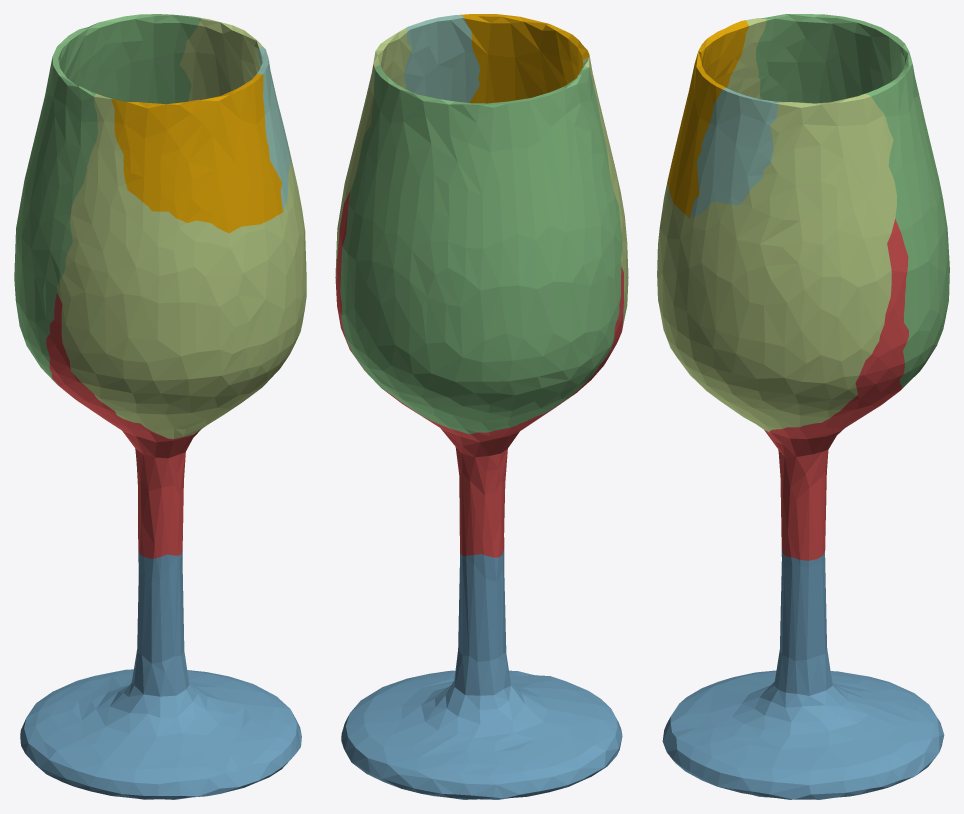
File: fractured_38_6pcs.glb
3 renders of one model, left to right at view 1: azimuth 30°, elevation 25°; view 2: azimuth 150°, elevation 25°; view 3: azimuth 270°, elevation 25°, orthographic.
Parts seen in each view (by area): view 1: piece_5.obj, piece_2.obj, piece_3.obj, piece_0.obj, piece_1.obj, piece_4.obj; view 2: piece_3.obj, piece_2.obj, piece_0.obj, piece_1.obj, piece_4.obj, piece_5.obj; view 3: piece_5.obj, piece_2.obj, piece_3.obj, piece_1.obj, piece_4.obj, piece_0.obj.
Boxes of the visible parts, x1=… form: piece_5.obj: x1=57, y1=18, x2=306, y2=438; piece_2.obj: x1=20, y1=550, x2=301, y2=799; piece_3.obj: x1=14, y1=14, x2=200, y2=388; piece_0.obj: x1=111, y1=74, x2=282, y2=233; piece_1.obj: x1=46, y1=292, x2=200, y2=558; piece_4.obj: x1=257, y1=47, x2=290, y2=211; piece_3.obj: x1=340, y1=64, x2=622, y2=434; piece_2.obj: x1=341, y1=548, x2=622, y2=799; piece_0.obj: x1=461, y1=14, x2=595, y2=103; piece_1.obj: x1=336, y1=190, x2=623, y2=557; piece_4.obj: x1=403, y1=14, x2=480, y2=102; piece_5.obj: x1=335, y1=28, x2=628, y2=327; piece_5.obj: x1=657, y1=18, x2=896, y2=432; piece_2.obj: x1=662, y1=548, x2=944, y2=799; piece_3.obj: x1=756, y1=14, x2=949, y2=388; piece_1.obj: x1=764, y1=219, x2=908, y2=560; piece_4.obj: x1=689, y1=87, x2=779, y2=217; piece_0.obj: x1=667, y1=20, x2=749, y2=217.
Bounding box in the file's own units: 0.3821 × 1 × 0.3823.
